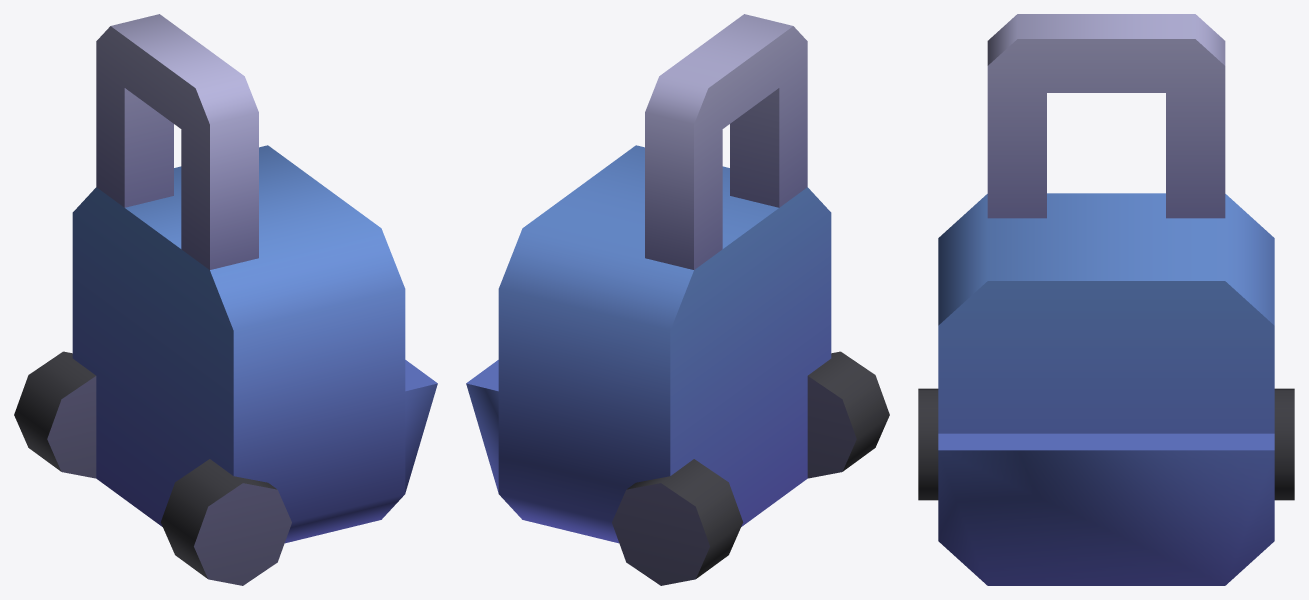
Rendered from item-luggage-upright.obj.
3 renders of one model, left to right at view 1: azimuth 30°, elevation 25°; view 2: azimuth 150°, elevation 25°; view 3: azimuth 270°, elevation 25°, orthographic. The views are drawn at different scales.
Parts seen in each view (by area): view 1: item-luggage-upright; view 2: item-luggage-upright; view 3: item-luggage-upright.
Part boxes in pixels (<box>): item-luggage-upright: <box>14,14,437,585</box>; item-luggage-upright: <box>466,14,889,585</box>; item-luggage-upright: <box>918,14,1294,585</box>.
Bounding box in the file's own units: 0.1857 × 0.324 × 0.228.
1 material, 1 textured.
